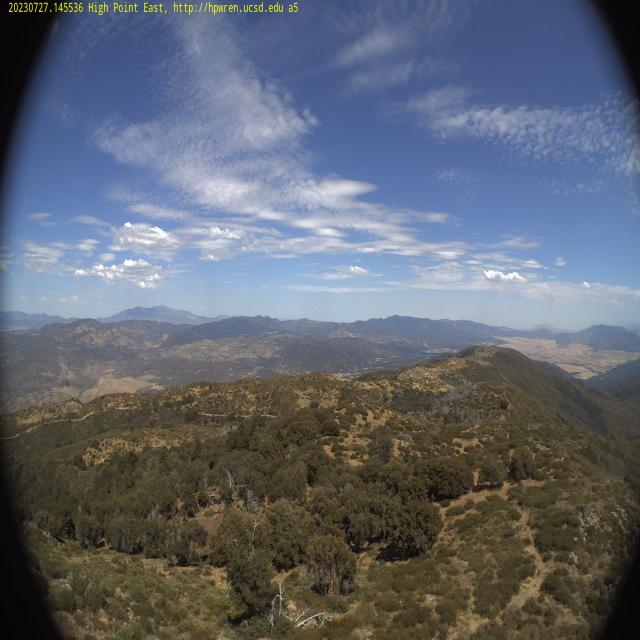smoke: (23, 298, 41, 336)
